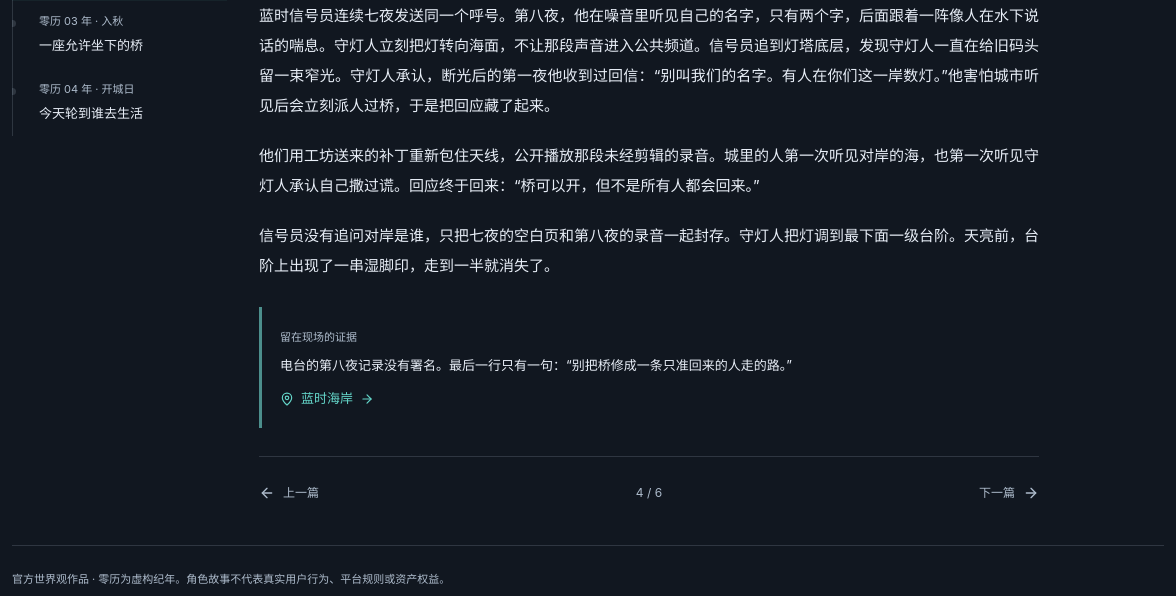
Test: ZeroCityChronicle › follows a scene into its district and shows its actual residents
The image size is (1176, 596).
(page scrolled)
Click the button "蓝时海岸" at (327,399), box [280,388,374,409]
(page scrolled)
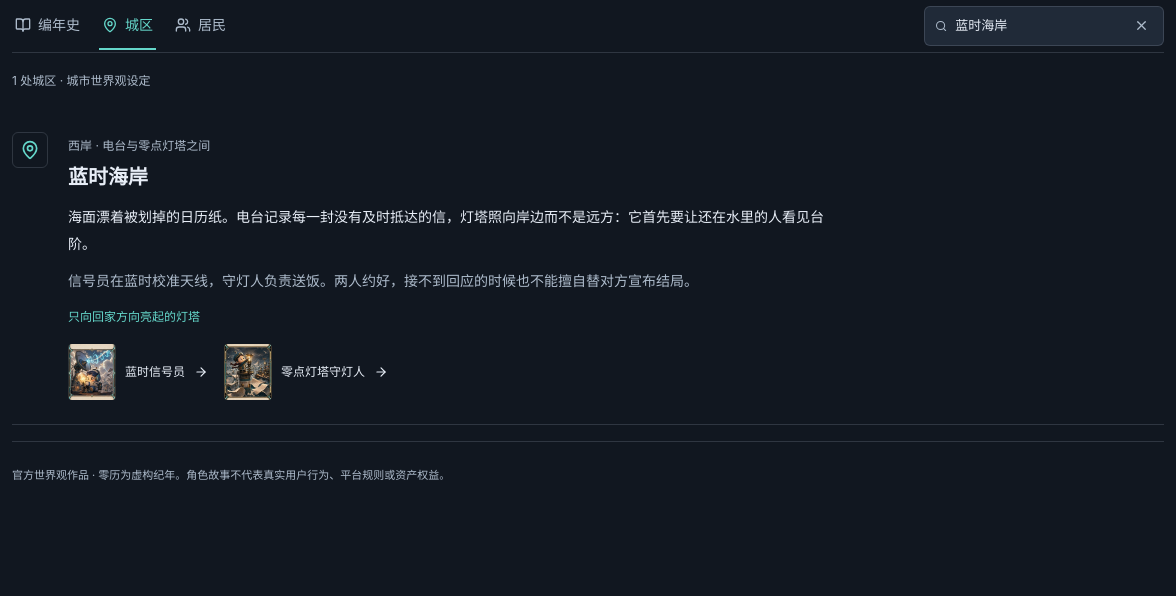
Expected: the heading "蓝时海岸" is shown, [68,165,148,189]
Expected: the number of elements with class "chronicle-district" is 1, [12,108,1164,425]
